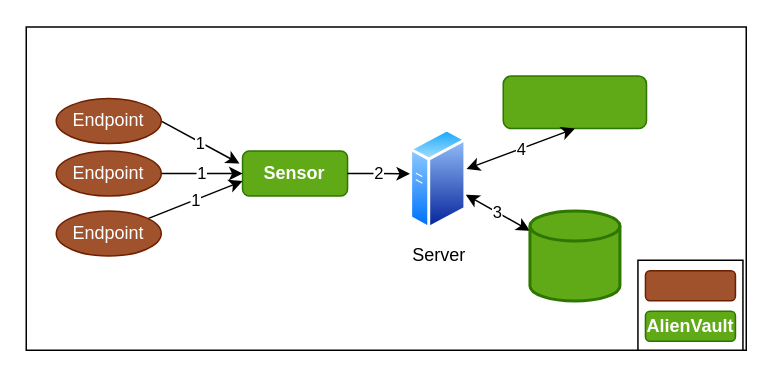
Some shapes in this 773 by 377 pixel diagram are drawn without their labels. Each missing label, with the centre of its shape:
External Tools: point (689, 285)
Logger Database: point (574, 255)
Web grafische Benutzeroberfläche: point (574, 102)
